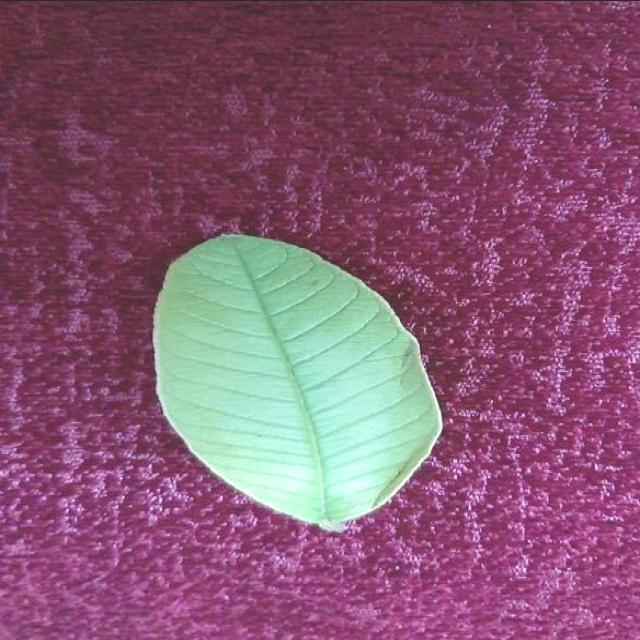leaf: (151, 231, 443, 533)
